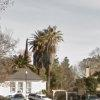Tree: (35, 18, 76, 75)
